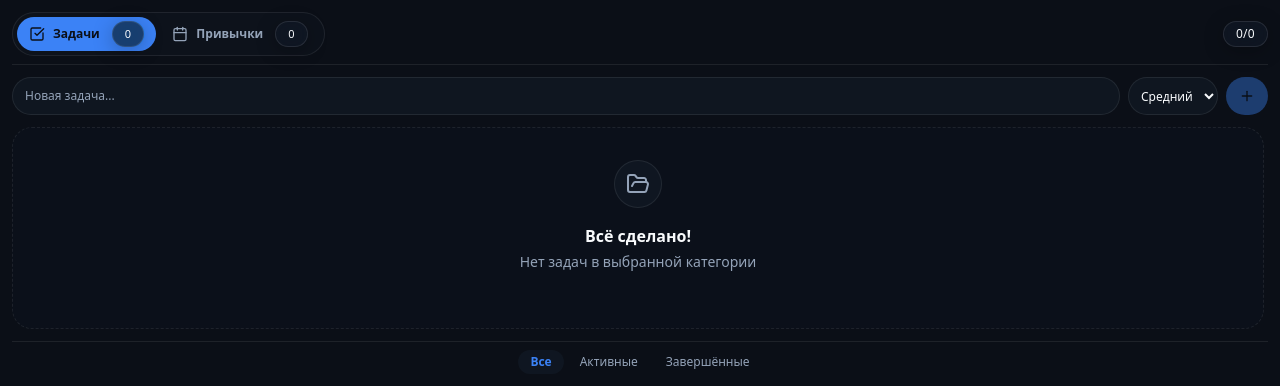
Test: TodoWidget Component & Manifest › должен добавлять новую задачу и сохранять в StorageAdapter
The width and height of the screenshot is (1280, 386).
In the field labelled "Новая задача...": (566, 96) [12,77,1120,115], type "Купить молоко"
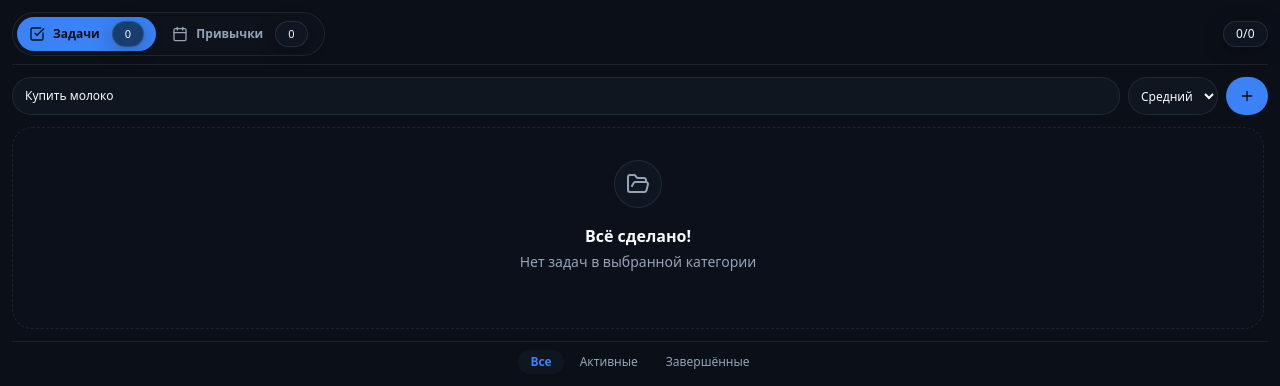
Click the button named "добавить": (1247, 96) [1226,77,1268,115]
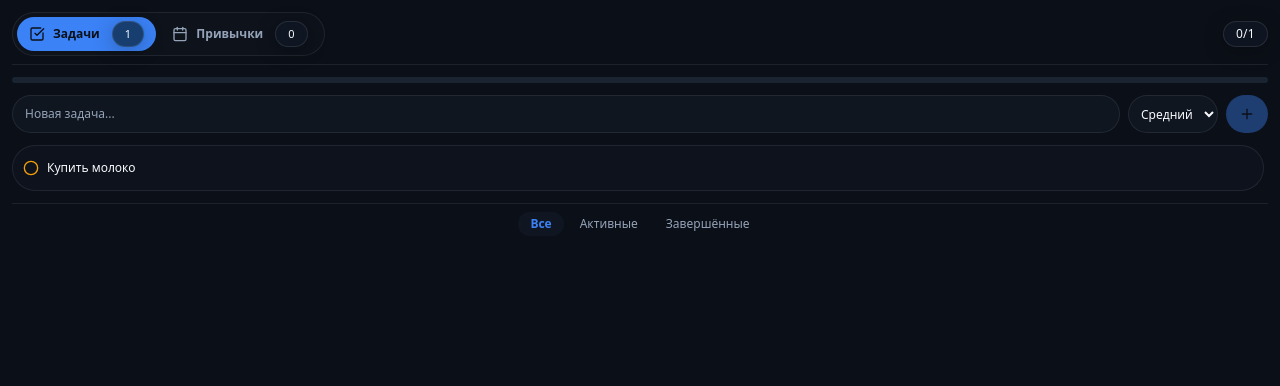
Expected: the text "Купить молоко" is shown, [47,160,136,176]
